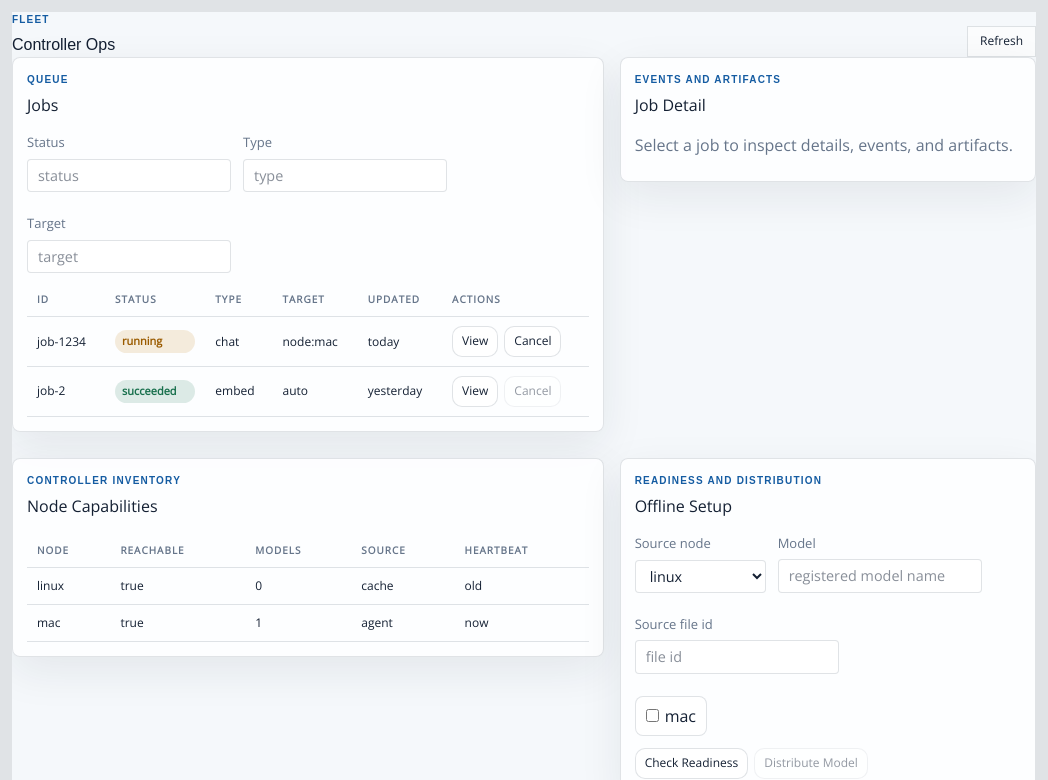
renders jobs, node capabilities, retention, and filters jobs
Expected: the text "job-1234" is shown, 27,317 -> 105,366
Expected: the text "node:mac" is shown, 272,317 -> 358,366
Type "succeeded" into the field labelled "Status" at (129,175), box 27,158 -> 231,192
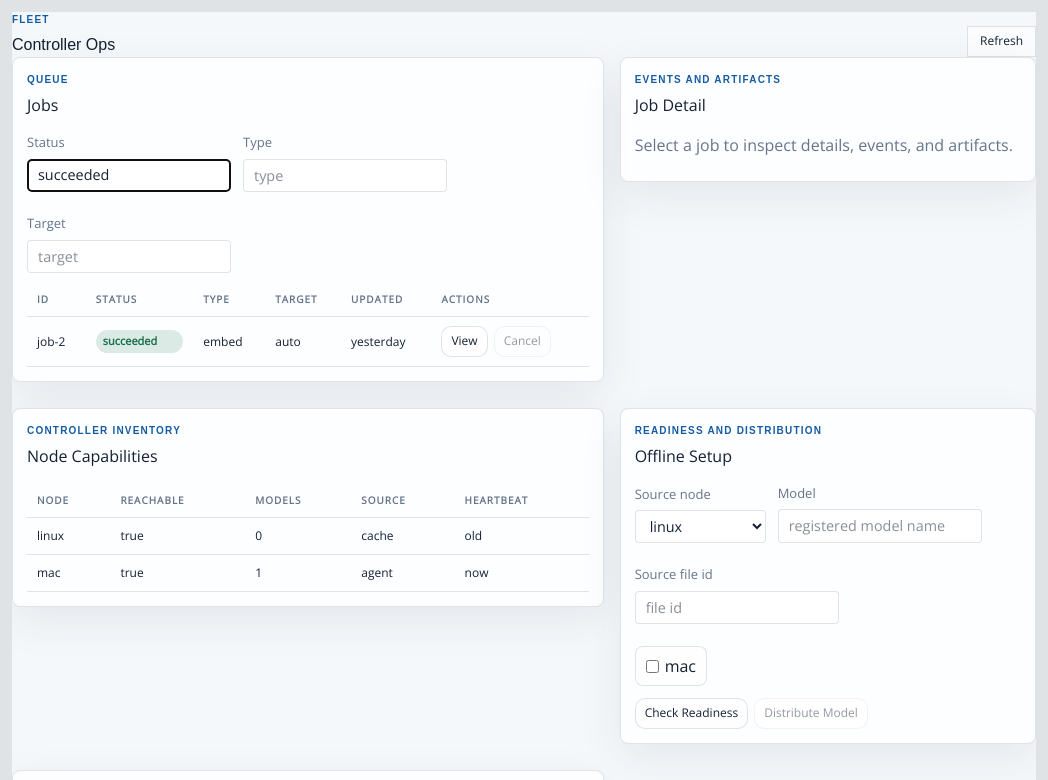
Expected: the text "job-2" is shown, 27,317 -> 86,366
Expected: the text "job-1234" is gone
